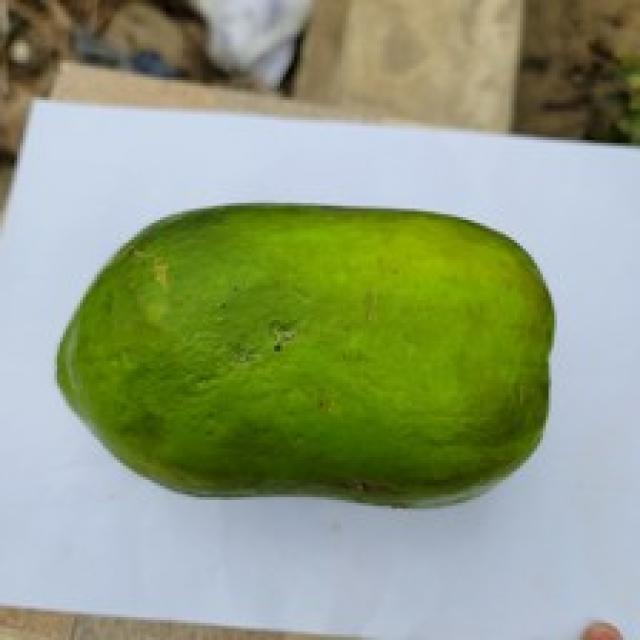organik: (46, 189, 567, 512)
